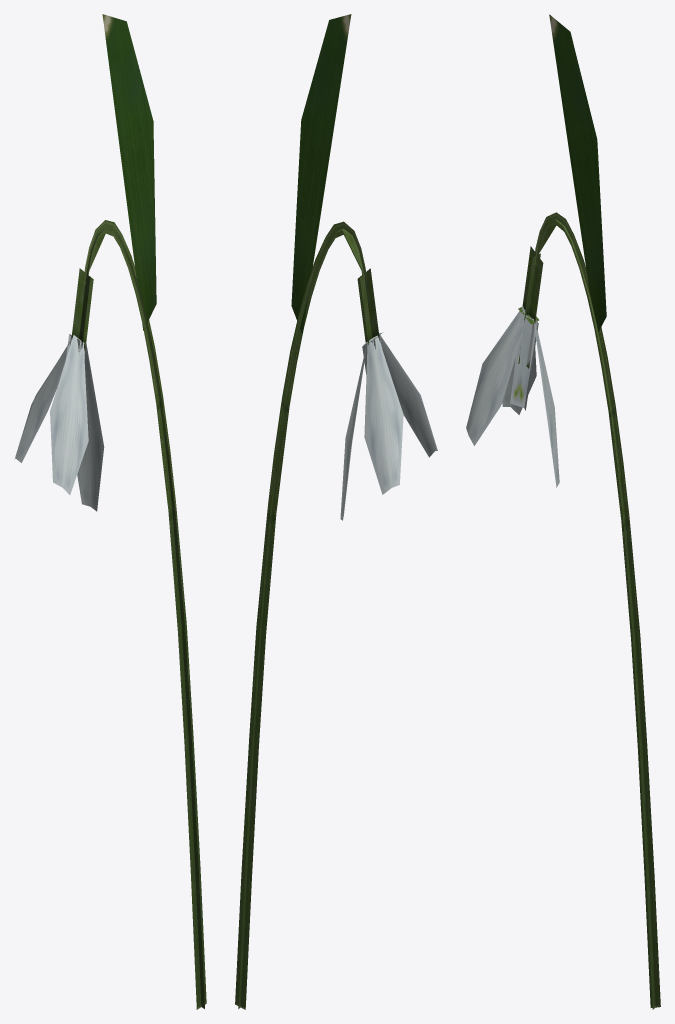
The model's file is snowdrop.glb.
3 renders of one model, left to right at view 1: azimuth 30°, elevation 25°; view 2: azimuth 150°, elevation 25°; view 3: azimuth 330°, elevation 25°, orthographic. The views are drawn at different scales.
Parts seen in each view (by area): view 1: snowdrop_open_1_LOD0_Snowdrop_2048_0; view 2: snowdrop_open_1_LOD0_Snowdrop_2048_0; view 3: snowdrop_open_1_LOD0_Snowdrop_2048_0.
Part boxes in pixels (x1=…): snowdrop_open_1_LOD0_Snowdrop_2048_0: x1=14, y1=14, x2=206, y2=1009; snowdrop_open_1_LOD0_Snowdrop_2048_0: x1=235, y1=14, x2=437, y2=1009; snowdrop_open_1_LOD0_Snowdrop_2048_0: x1=466, y1=14, x2=660, y2=1009.
Bounding box in the file's own units: 0.1831 × 1 × 0.0845.
Materials: 1 (1 with a texture image).
